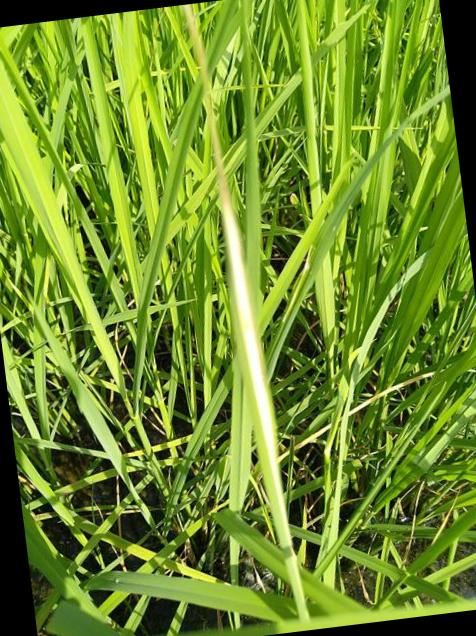Leaf Blight: (181, 3, 309, 624)
